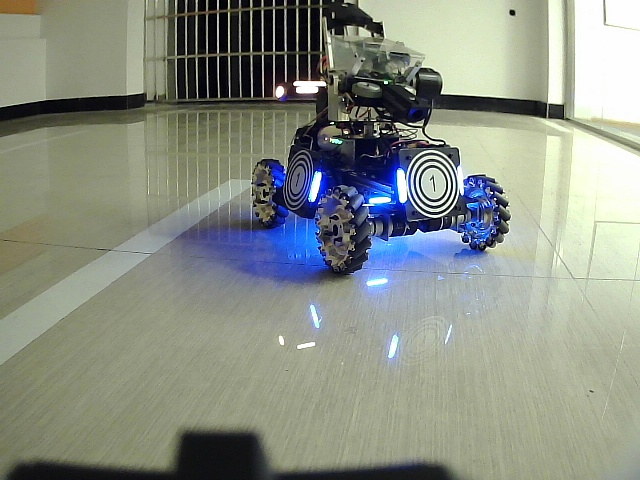lamp: (303, 170, 325, 202), (394, 165, 410, 205), (454, 165, 468, 194)
pair: (396, 167, 465, 195)
